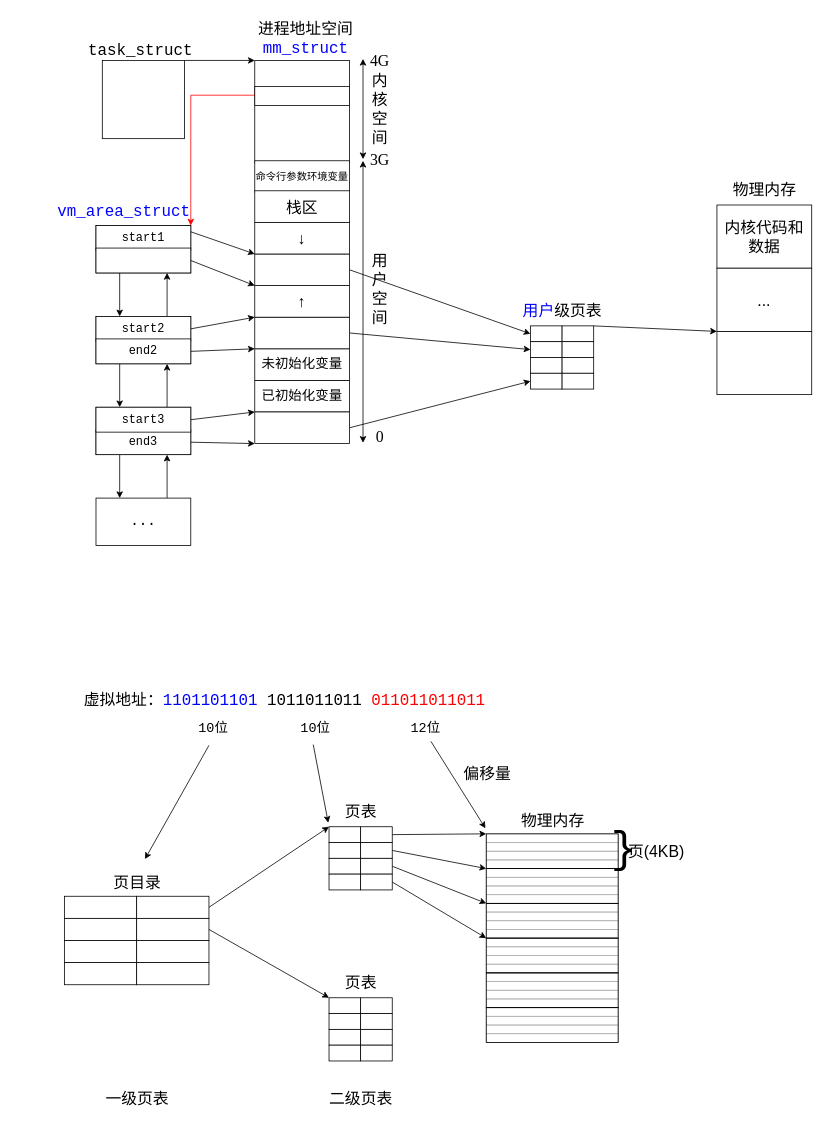
Image size: 826x1126. Some labels were removed from this diagram. The shapes that lost their labels are listed below. From the top down, each one's centre as x and y in pixels, then its label:
At point 143,99: "进程".
At point 302,95: "mmap".
At point 143,260: "end1".
At point 302,269: "动态库(共享区)".
At point 302,332: "堆区".
At point 764,363: "进程 代码和数据".
At point 302,427: "代码段".
